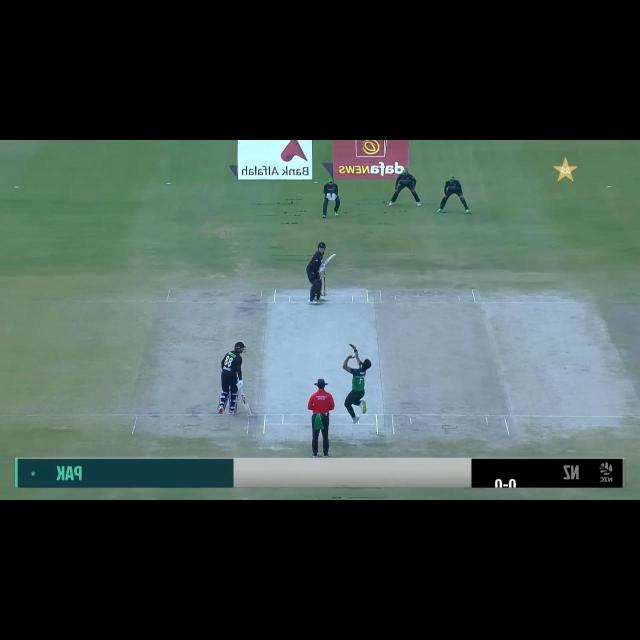bat: (242, 394, 250, 417), (323, 253, 336, 266)
toe: (246, 407, 252, 416), (331, 253, 336, 259)
